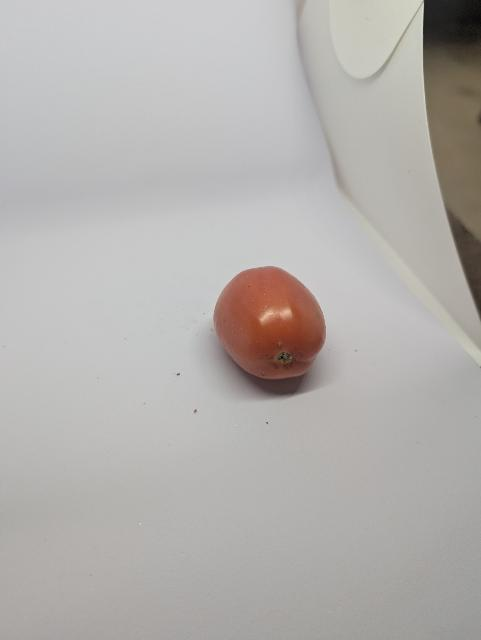red: (200, 259, 335, 401)
